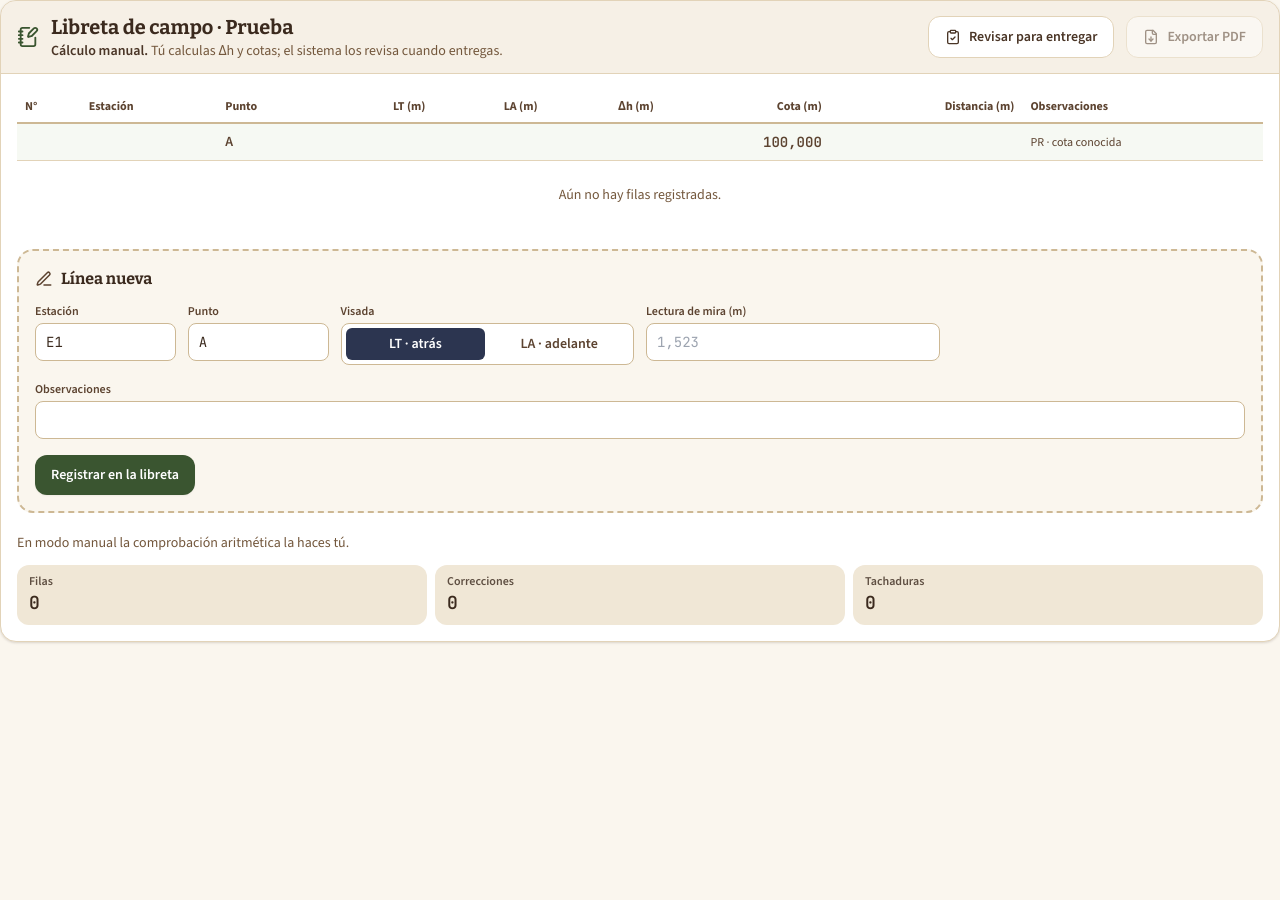
it: CP-03 · intentar corregir tachando una celda › la celda registrada no se edita: aparece el aviso de bloqueo
Type "1,500" into the field labelled "Lectura de mira (m)". click: (793, 342)
box: [646,323,940,361]
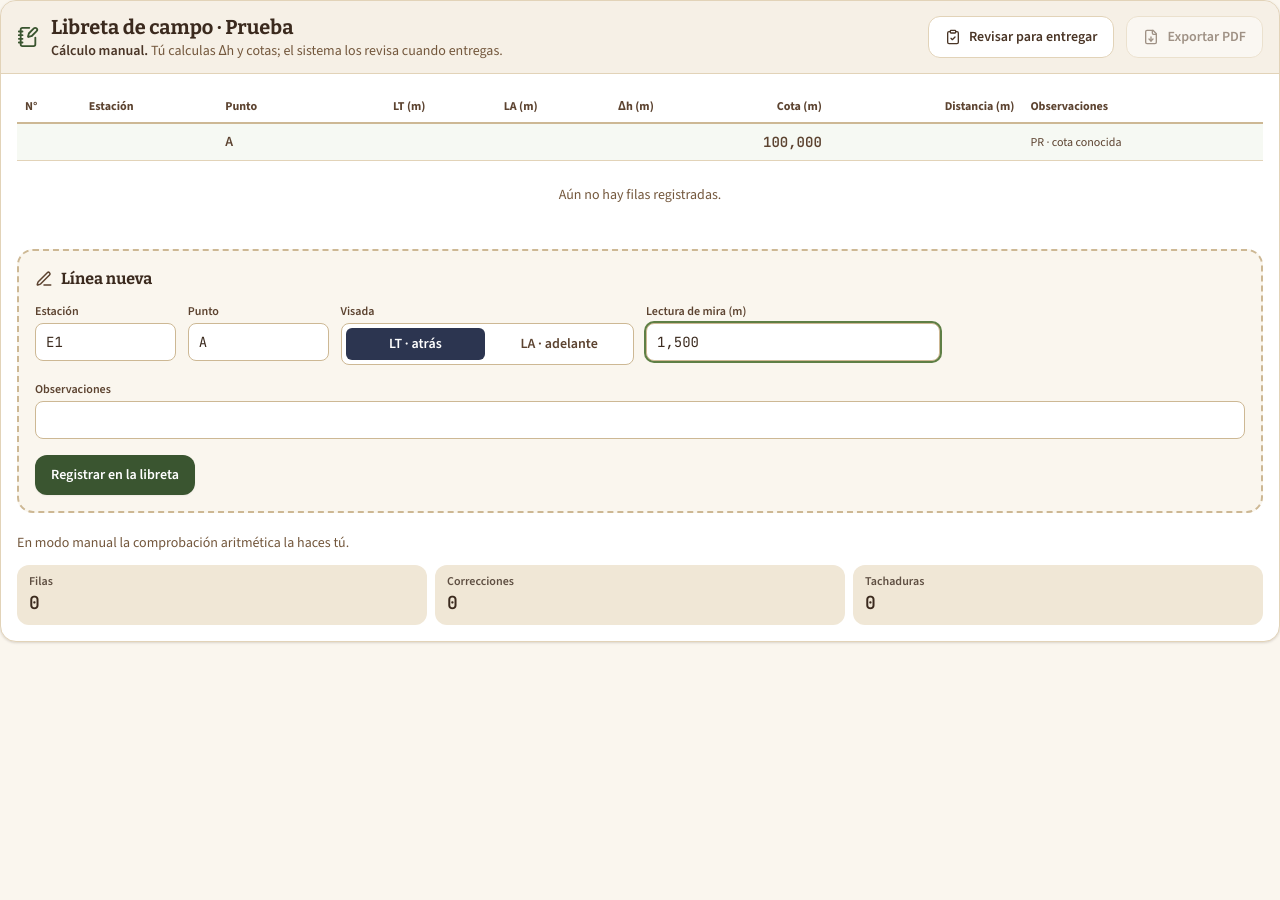
Click the button "Registrar en la libreta". click: (115, 475)
box: [35,455,195,495]
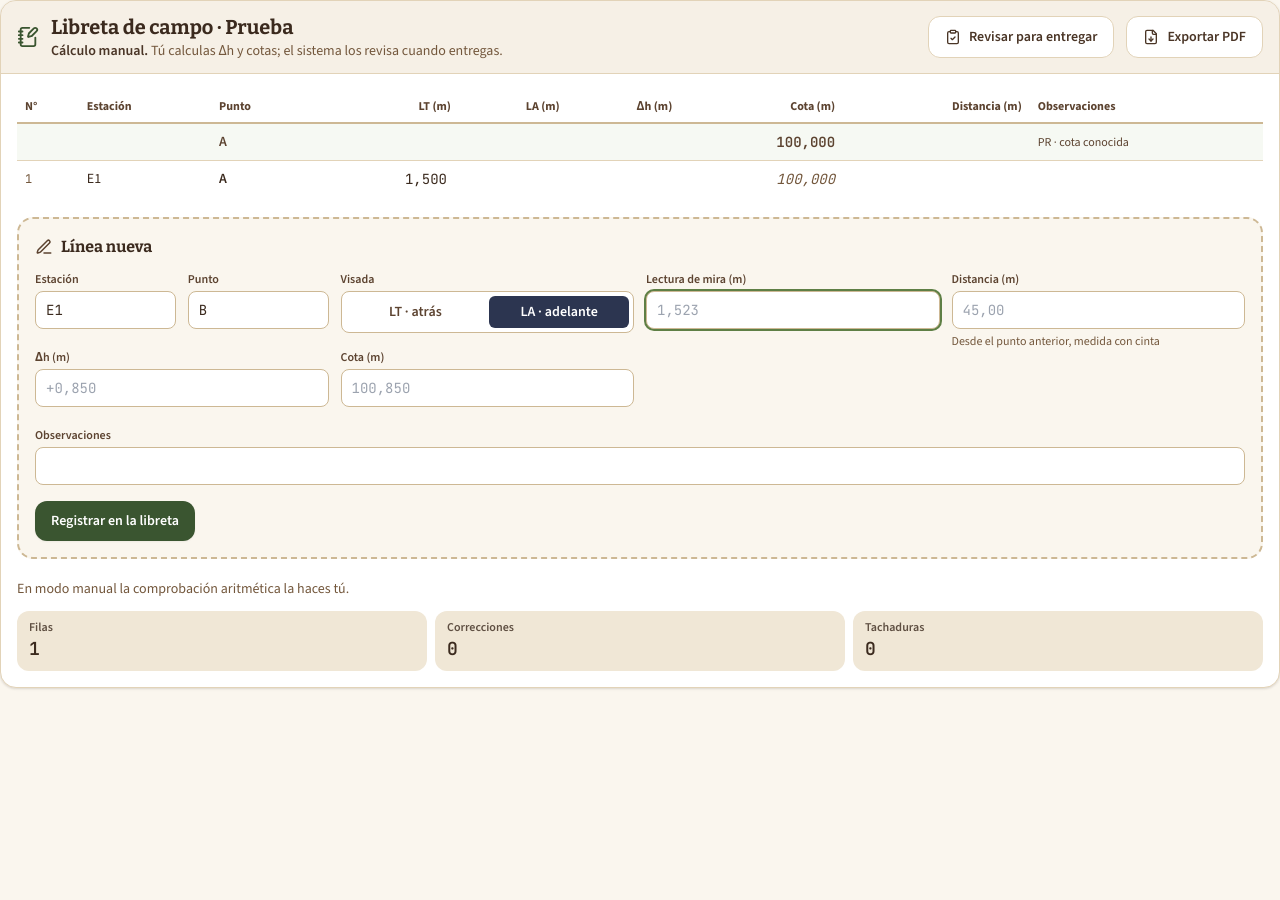
Click the button named "Fila 1, lectura: 1,500. Registrada.". click: (426, 179)
box: [401,169,451,189]
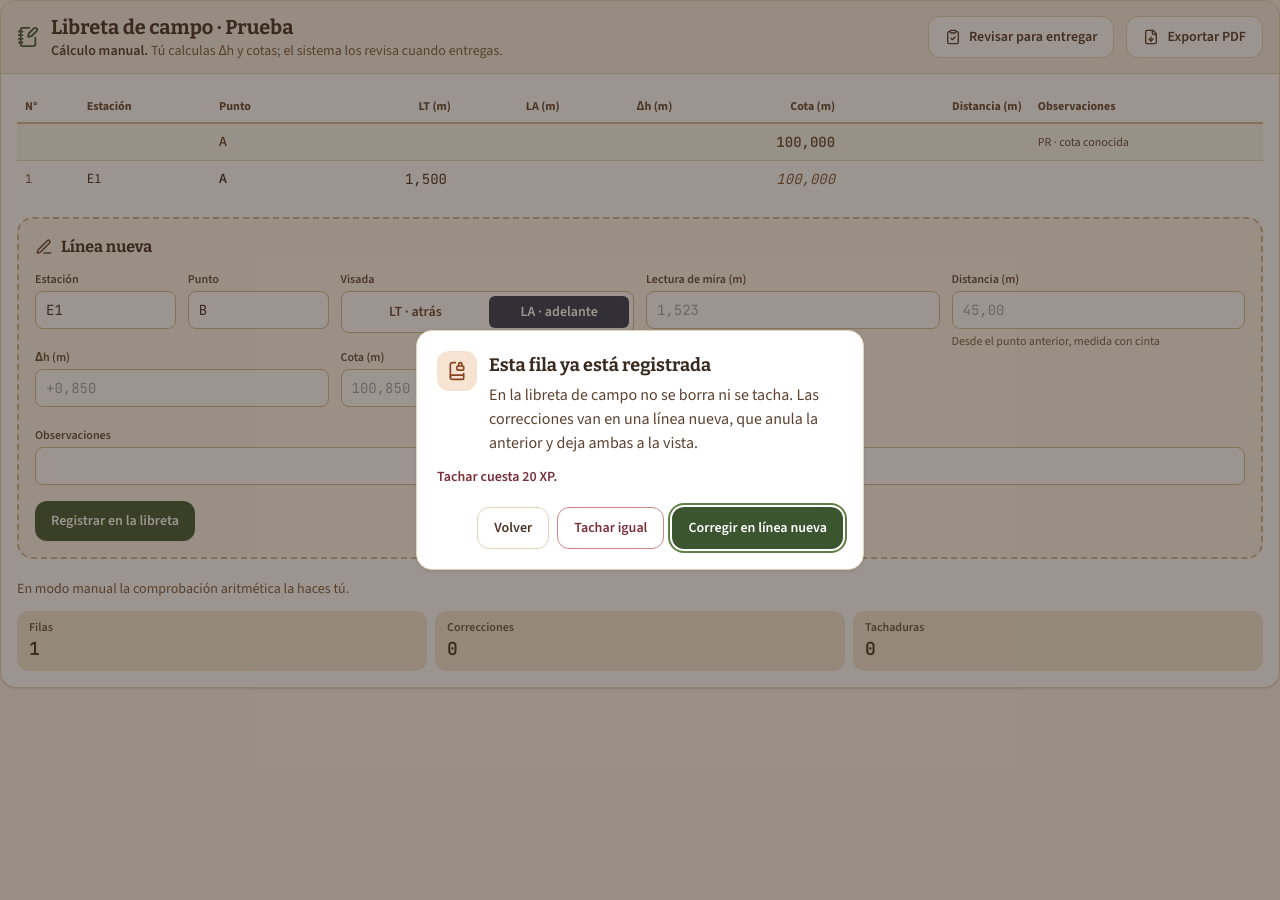
Check: the text "no se borra ni se tacha" is shown, box [489,384,819,453]
Check: the text "Tachar cuesta 20 XP." is shown, box [437,467,557,486]
